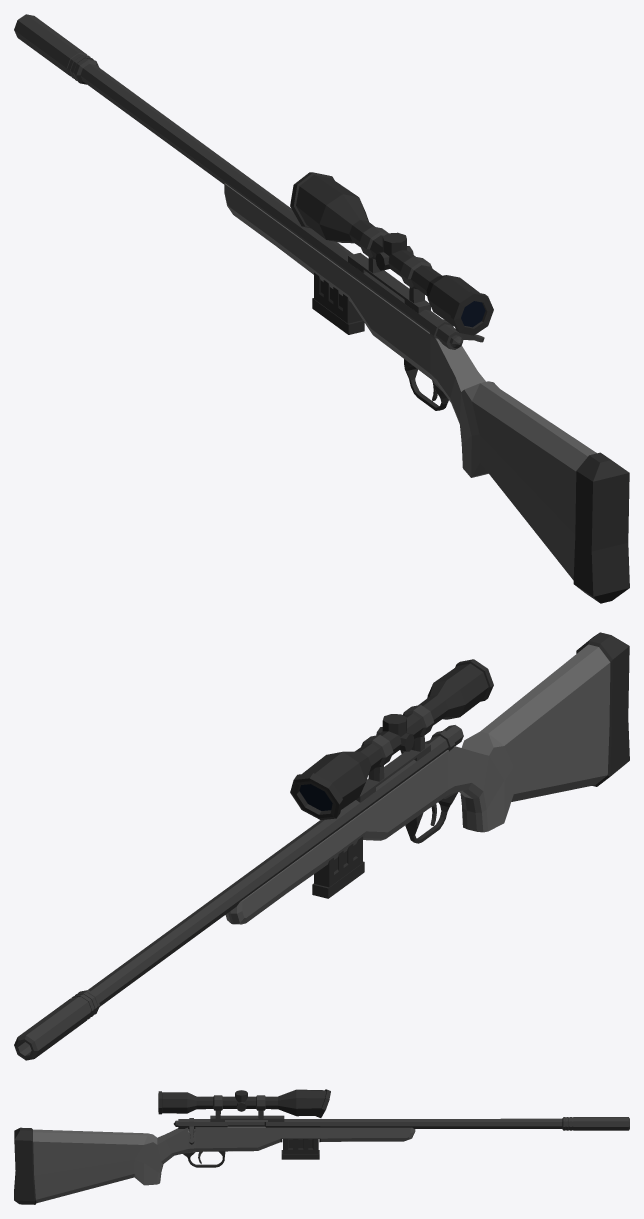
The model's file is sniper.glb.
3 views of the same model, one above another, from view 1: azimuth 30°, elevation 25°; view 2: azimuth 150°, elevation 25°; view 3: azimuth 270°, elevation 25° (orthographic). The views are drawn at different scales.
Visible parts, largest first — view 1: SniperRifle_2; view 2: SniperRifle_2; view 3: SniperRifle_2.
Part boxes in pixels (x1,y1,x2,y2): SniperRifle_2: (14, 14, 629, 603); SniperRifle_2: (14, 632, 629, 1060); SniperRifle_2: (14, 1089, 629, 1204).
Size of the model in its own units: 0.0799 by 0.2486 by 1.22.
Materials: 1 (1 with a texture image).
